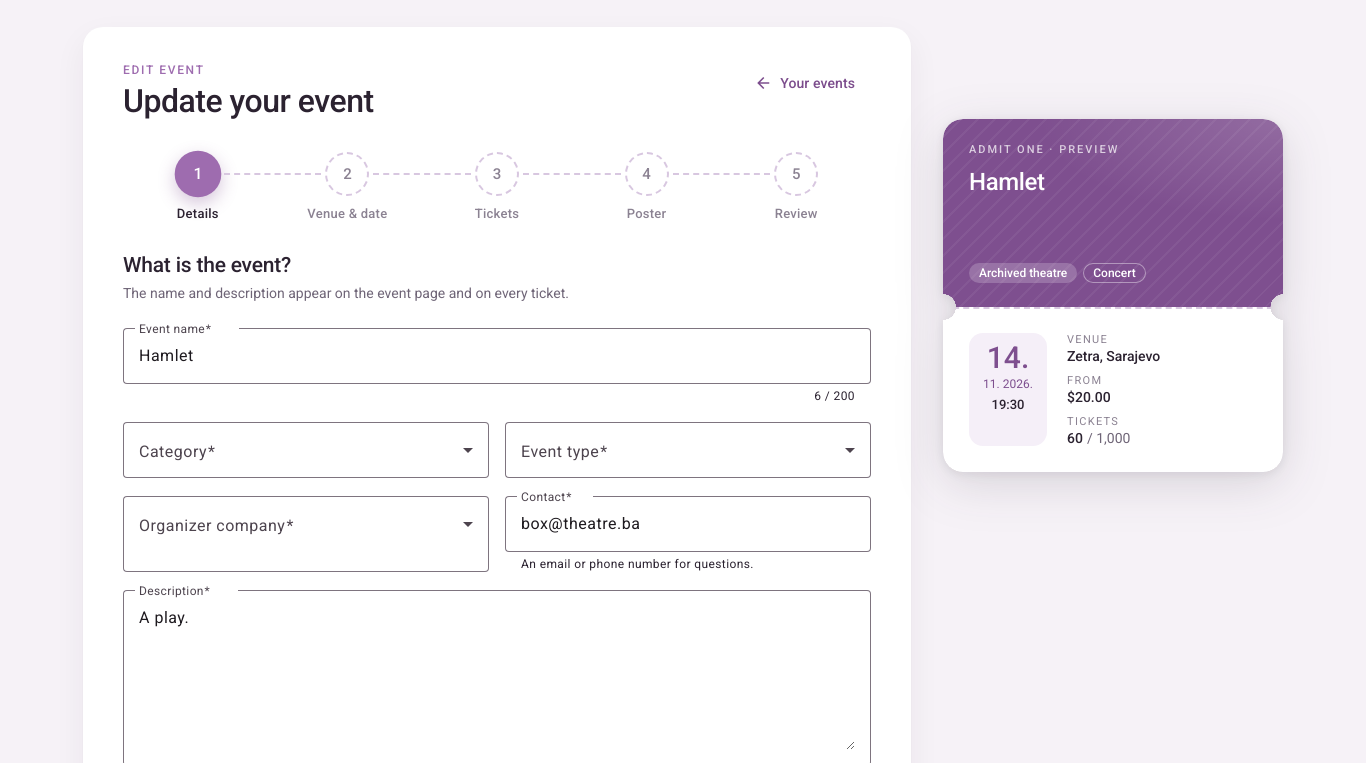
Scenario: EventWizardComponent › shows a typed single-digit hour in both the live preview and the review
Click the tab with class "track__button" showing "2 Venue & date" at {"x": 347, "y": 186}, box 273,152 -> 422,221
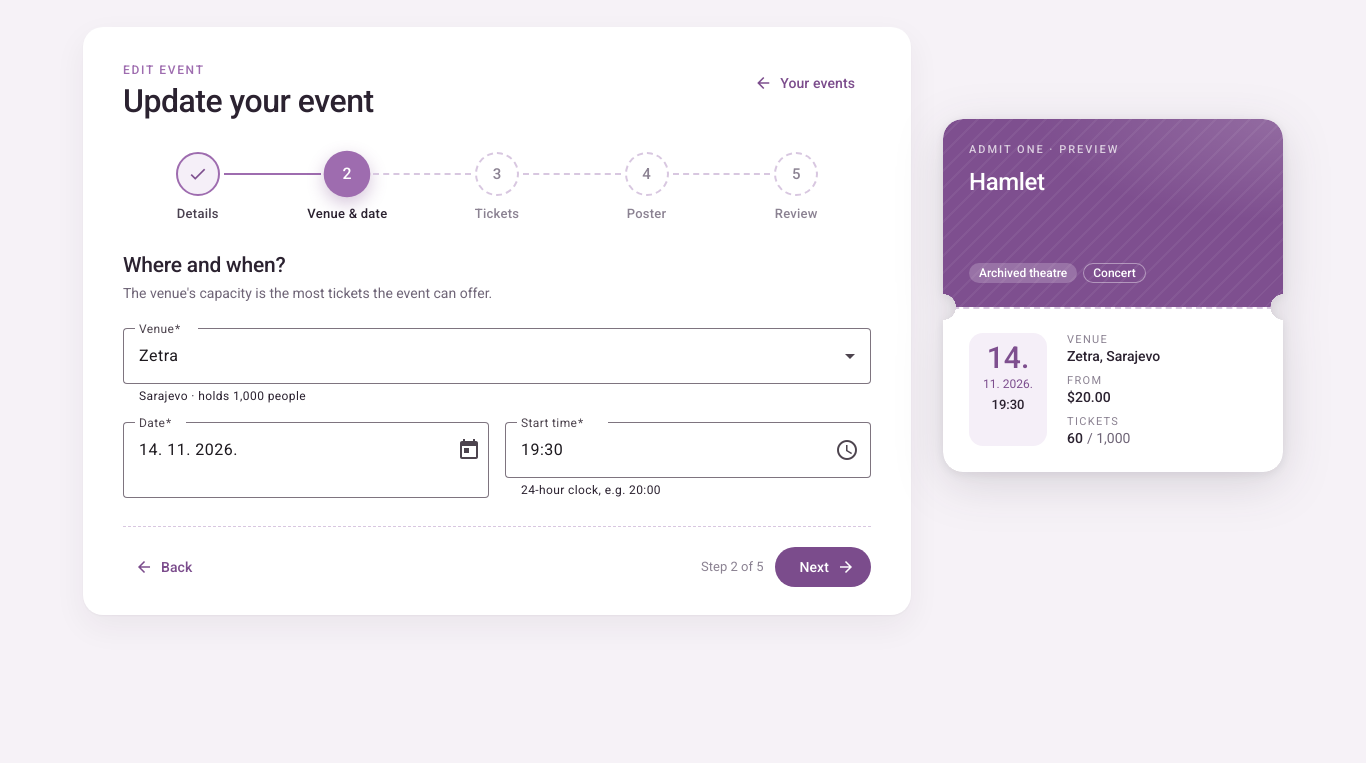
Replace the text in the field named "time" with "9:30" at {"x": 670, "y": 450}, box 521,438 -> 819,462
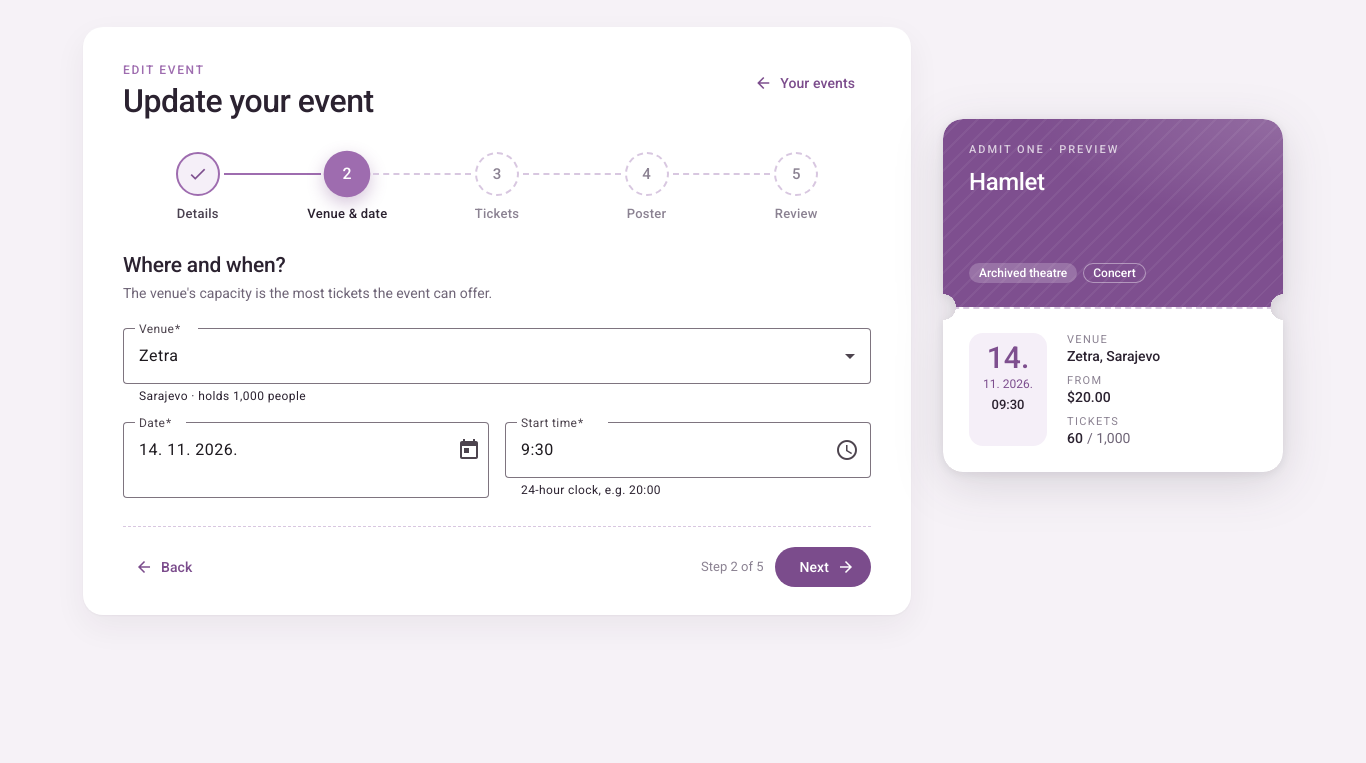
Result: the text with class "ticket__time" reads "09:30" at 992,397 -> 1024,412
Click the tab with class "track__button" showing "5 Review" at {"x": 796, "y": 186}, box 721,152 -> 871,221
(page scrolled)
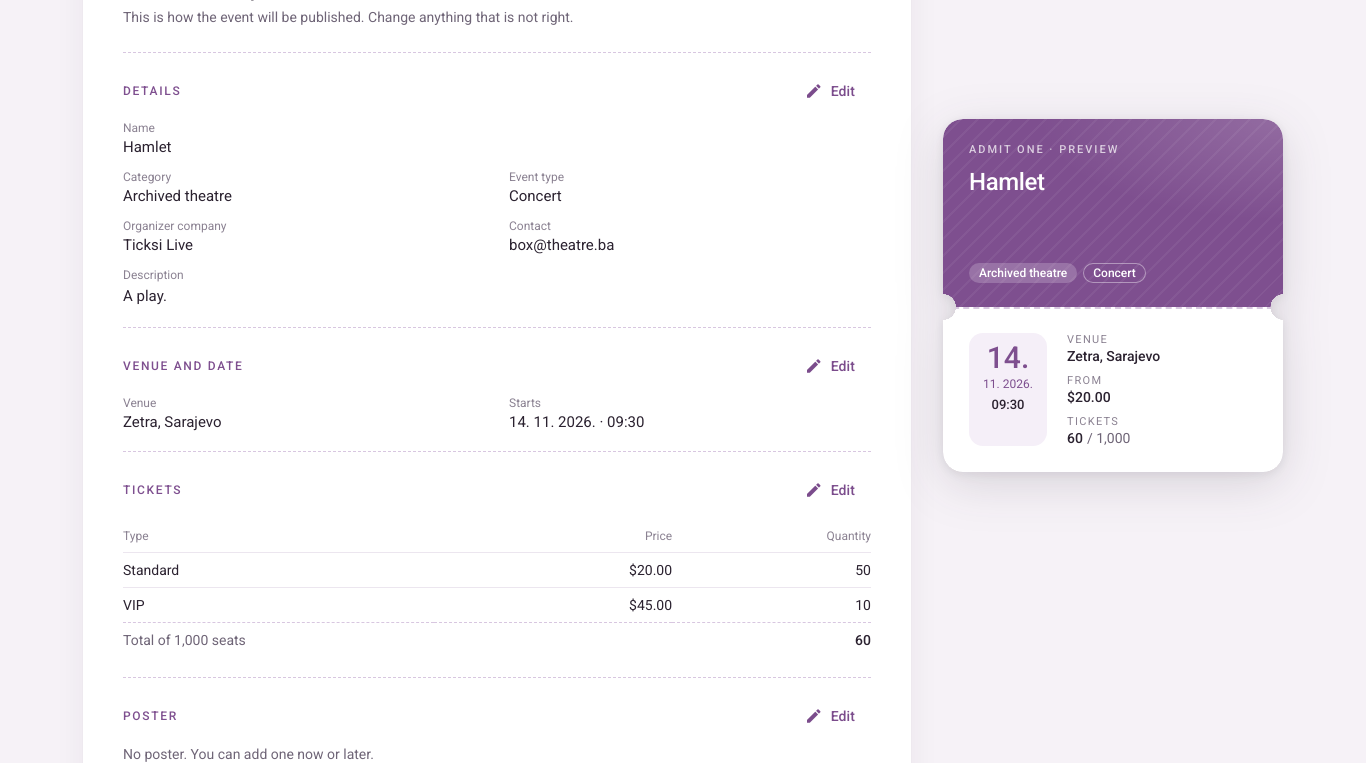
Result: the element that starts with "Check before you save" shows "09:30" at 509,413 -> 644,431
